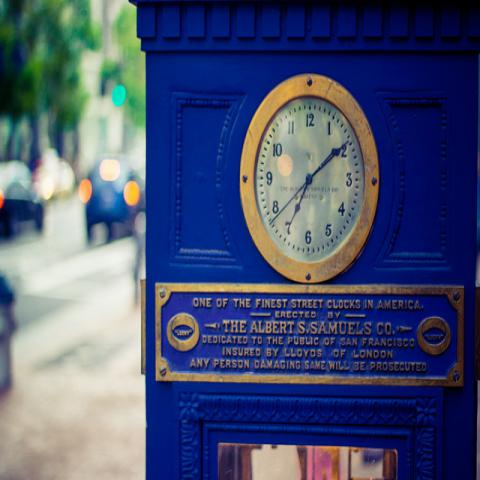car: (78, 149, 142, 246), (0, 160, 43, 236)
